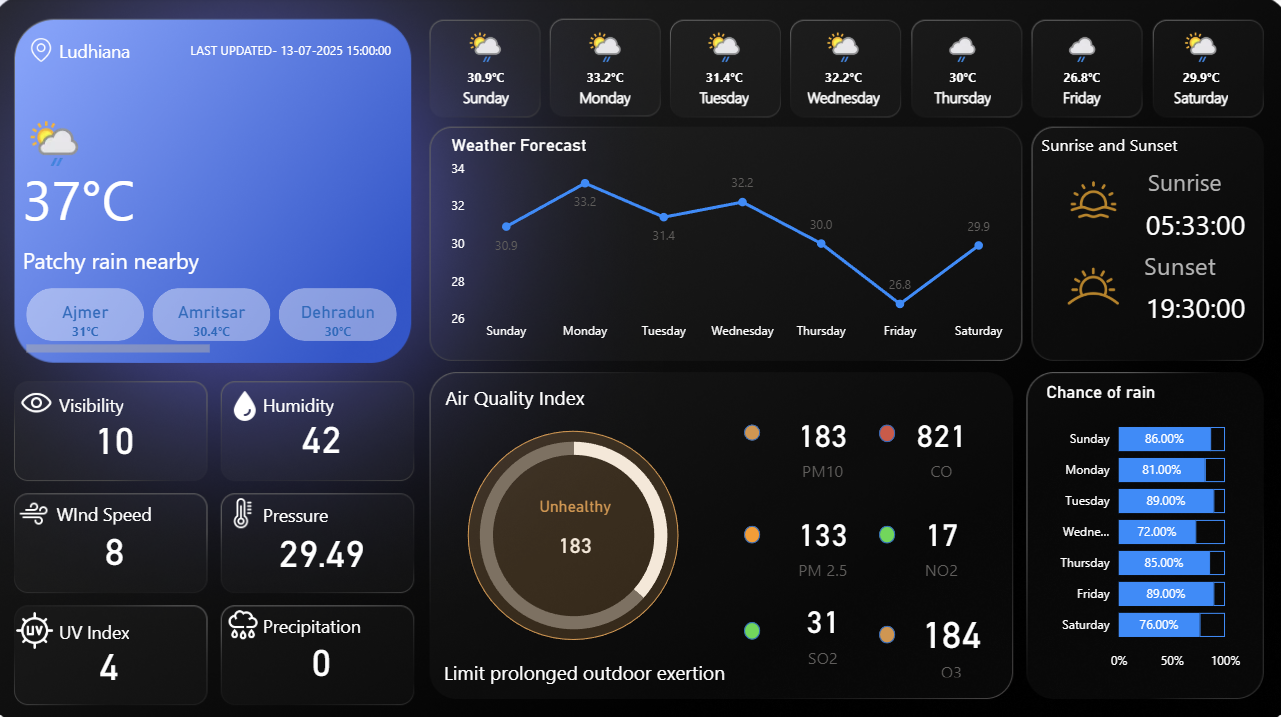

The dashboard page shown, as its layout file describes it:
{"tool":"powerbi","page":{"name":"Page 1","canvas":[1280,720],"ordinal":0},"visuals":[{"type":"shape","box":[448.5,374.7,208.3,37.6],"z":0},{"type":"donutChart","fields":{"Y":["Sum(current.current.air_quality.pm10)","_Measures.Left_value_PM10"]},"box":[454.3,403.6,240.1,250.3],"z":1000},{"type":"advancedSlicerVisual","fields":{"Values":["Location.location.name"]},"box":[31.8,280.7,374.7,75.2],"z":2000},{"type":"shape","box":[32.9,157.8,170.2,78.2],"z":3000},{"type":"shape","box":[32.9,236,362.3,45.3],"z":4000},{"type":"shape","box":[68.6,35.7,109.8,32.9],"z":5000},{"type":"shape","box":[178.4,35.7,216.8,32.9],"z":6000},{"type":"image","box":[32.9,35.7,35.7,32.9],"z":7000},{"type":"cardVisual","fields":{"Data":["Min(current.current.condition.icon)"]},"box":[8.2,79.6,109.8,129],"z":8000},{"type":"image","box":[230.5,377.4,41.2,46.7],"z":9000},{"type":"image","box":[226.4,594.2,45.3,45.3],"z":10000},{"type":"image","box":[229.2,487.1,39.8,39.8],"z":11000},{"type":"image","box":[20.6,594.2,48,56.3],"z":12000},{"type":"image","box":[24.7,487.1,38.4,39.8],"z":13000},{"type":"image","box":[24.7,373.2,43.9,50.8],"z":14000},{"type":"shape","box":[68.6,381.5,115.3,37],"z":15000},{"type":"shape","box":[269,381.5,115.3,37],"z":16000},{"type":"shape","box":[65.9,488.5,115.3,37],"z":17000},{"type":"shape","box":[269,489.9,115.3,37],"z":18000},{"type":"shape","box":[68.6,605.1,115.3,37],"z":19000},{"type":"shape","box":[269,598.3,115.3,37],"z":20000},{"type":"card","fields":{"Values":["Min(current.current.vis_km)"]},"box":[64.5,400.7,116.6,63.1],"z":21000},{"type":"card","fields":{"Values":["Min(current.current.humidity)"]},"box":[281.3,393.8,90.6,75.5],"z":22000},{"type":"card","fields":{"Values":["Min(current.current.wind_kph)"]},"box":[71.4,509.1,104.3,65.9],"z":23000},{"type":"card","fields":{"Values":["Min(current.current.pressure_in)"]},"box":[259.3,509.1,135.8,70],"z":24000},{"type":"card","fields":{"Values":["Min(current.current.uv)"]},"box":[38.4,617.5,159.2,74.1],"z":25000},{"type":"card","fields":{"Values":["Min(current.current.precip_in)"]},"box":[247,613.4,159.2,74.1],"z":26000},{"type":"advancedSlicerVisual","fields":{"Values":["Forecast.Day_name"]},"box":[428.1,23.3,823.3,90.6],"z":27000},{"type":"lineChart","title":"Weather Forecast","fields":{"Category":["Forecast.Day_name"],"Y":["Sum(Forecast.forecast.forecastday.day.avgtemp_c)"]},"box":[448.7,134.5,558.5,211.3],"z":28000},{"type":"shape","box":[1033.3,124.9,208.6,37],"z":29000},{"type":"shape","box":[1118.4,199,133.1,46.7],"z":30000},{"type":"shape","box":[1118.4,281.3,133.1,46.7],"z":31000},{"type":"shape","box":[1133.5,245.6,104.3,35.7],"z":32000},{"type":"shape","box":[1137.6,163.3,104.3,35.7],"z":33000},{"type":"image","box":[1007.2,171.5,153.7,54.9],"z":34000},{"type":"image","box":[981.1,245.6,204.5,76.8],"z":35000},{"type":"hundredPercentStackedBarChart","title":"Chance of rain","fields":{"Category":["Forecast.Day_name"],"Y":["Sum(Forecast.forecast.forecastday.day.daily_chance_of_rain)","_Measures.Left_value_rain"]},"box":[1033.3,377.4,200.3,292.3],"z":36000},{"type":"card","fields":{"Values":["Min(current.current.air_quality.co)"]},"box":[889.7,400.7,91.1,78.1],"z":37000},{"type":"card","fields":{"Values":["Sum(current.current.air_quality.no2)"]},"box":[889.7,497.7,91.1,78.1],"z":38000},{"type":"card","fields":{"Values":["Sum(current.current.air_quality.o3)"]},"box":[899.8,594.6,91.1,78.1],"z":39000},{"type":"card","fields":{"Values":["Sum(current.current.air_quality.pm10)"]},"box":[772.5,400.7,91.1,78.1],"z":40000},{"type":"card","fields":{"Values":["Sum(current.current.air_quality.pm2_5)"]},"box":[768.2,497.7,101.3,78.1],"z":41000},{"type":"card","fields":{"Values":["Sum(current.current.air_quality.so2)"]},"box":[768.2,584.5,101.3,78.1],"z":42000},{"type":"shape","box":[740.7,419.5,15.9,15.9],"z":43000},{"type":"shape","box":[740.7,613.4,15.9,17.4],"z":44000},{"type":"shape","box":[740.7,519.4,15.9,17.4],"z":45000},{"type":"shape","box":[873.8,419.5,15.9,17.4],"z":46000},{"type":"shape","box":[873.8,519.4,15.9,17.4],"z":47000},{"type":"shape","box":[873.8,617.7,15.9,17.4],"z":48000},{"type":"card","fields":{"Values":["Sum(current.current.air_quality.pm10)"]},"box":[529.5,490.4,91.1,78.1],"z":49000},{"type":"shape","box":[470.2,425.3,206.9,205.4],"z":50000},{"type":"shape","box":[428.2,643.8,312.5,37.6],"z":51000}]}

Visuals, with their boxes in screenshot pixels (x1, y1, x2, y2), scaled from the page's 1280x720 canvas onto the 1281x717 screenshot:
shape: x1=449 y1=373 x2=657 y2=411
donutChart - Sum(current.current.air_quality.pm10) x _Measures.Left_value_PM10: x1=455 y1=402 x2=695 y2=651
advancedSlicerVisual - Location.location.name: x1=32 y1=280 x2=407 y2=354
shape: x1=33 y1=157 x2=203 y2=235
shape: x1=33 y1=235 x2=396 y2=280
shape: x1=69 y1=36 x2=179 y2=68
shape: x1=179 y1=36 x2=396 y2=68
image: x1=33 y1=36 x2=69 y2=68
cardVisual - Min(current.current.condition.icon): x1=8 y1=79 x2=118 y2=208
image: x1=231 y1=376 x2=272 y2=422
image: x1=227 y1=592 x2=272 y2=637
image: x1=229 y1=485 x2=269 y2=525
image: x1=21 y1=592 x2=69 y2=648
image: x1=25 y1=485 x2=63 y2=525
image: x1=25 y1=372 x2=69 y2=422
shape: x1=69 y1=380 x2=184 y2=417
shape: x1=269 y1=380 x2=385 y2=417
shape: x1=66 y1=486 x2=181 y2=523
shape: x1=269 y1=488 x2=385 y2=525
shape: x1=69 y1=603 x2=184 y2=639
shape: x1=269 y1=596 x2=385 y2=633
card - Min(current.current.vis_km): x1=65 y1=399 x2=181 y2=462
card - Min(current.current.humidity): x1=282 y1=392 x2=372 y2=467
card - Min(current.current.wind_kph): x1=71 y1=507 x2=176 y2=573
card - Min(current.current.pressure_in): x1=260 y1=507 x2=395 y2=577
card - Min(current.current.uv): x1=38 y1=615 x2=198 y2=689
card - Min(current.current.precip_in): x1=247 y1=611 x2=407 y2=685
advancedSlicerVisual - Forecast.Day_name: x1=428 y1=23 x2=1252 y2=113
"Weather Forecast" lineChart: x1=449 y1=134 x2=1008 y2=344
shape: x1=1034 y1=124 x2=1243 y2=161
shape: x1=1119 y1=198 x2=1252 y2=245
shape: x1=1119 y1=280 x2=1252 y2=327
shape: x1=1134 y1=245 x2=1239 y2=280
shape: x1=1138 y1=163 x2=1243 y2=198
image: x1=1008 y1=171 x2=1162 y2=225
image: x1=982 y1=245 x2=1187 y2=321
"Chance of rain" hundredPercentStackedBarChart: x1=1034 y1=376 x2=1235 y2=667
card - Min(current.current.air_quality.co): x1=890 y1=399 x2=982 y2=477
card - Sum(current.current.air_quality.no2): x1=890 y1=496 x2=982 y2=573
card - Sum(current.current.air_quality.o3): x1=901 y1=592 x2=992 y2=670
card - Sum(current.current.air_quality.pm10): x1=773 y1=399 x2=864 y2=477
card - Sum(current.current.air_quality.pm2_5): x1=769 y1=496 x2=870 y2=573
card - Sum(current.current.air_quality.so2): x1=769 y1=582 x2=870 y2=660
shape: x1=741 y1=418 x2=757 y2=434
shape: x1=741 y1=611 x2=757 y2=628
shape: x1=741 y1=517 x2=757 y2=535
shape: x1=874 y1=418 x2=890 y2=435
shape: x1=874 y1=517 x2=890 y2=535
shape: x1=874 y1=615 x2=890 y2=632
card - Sum(current.current.air_quality.pm10): x1=530 y1=488 x2=621 y2=566
shape: x1=471 y1=424 x2=678 y2=628
shape: x1=429 y1=641 x2=741 y2=679
